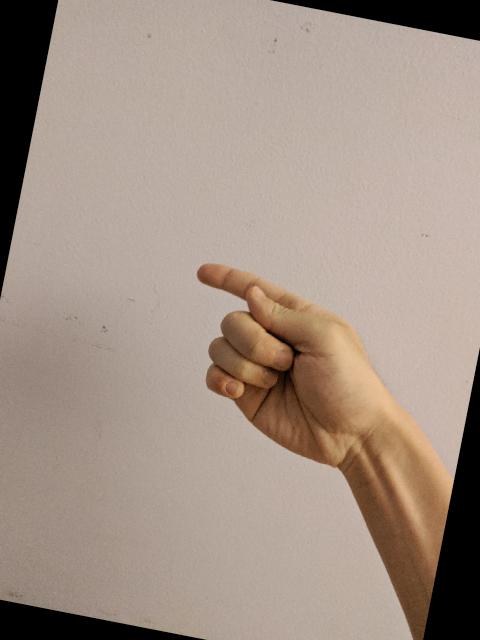G: (158, 254, 402, 483)
